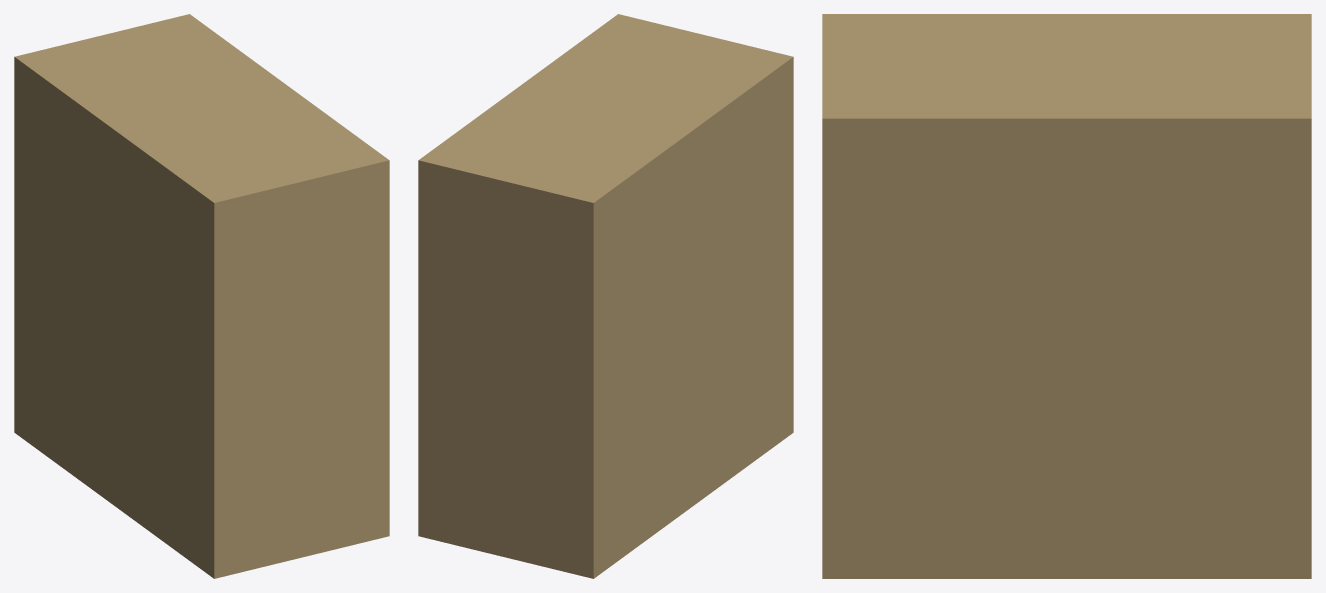
3 renders of one model, left to right at view 1: azimuth 30°, elevation 25°; view 2: azimuth 150°, elevation 25°; view 3: azimuth 270°, elevation 25°, orthographic. The views are drawn at different scales.
Visible parts, largest first — view 1: mesh92194, mesh92196, mesh92193; view 2: mesh92194, mesh92195, mesh92193; view 3: mesh92192, mesh92193.
Part boxes in pixels (x1,y1,x2,y2): mesh92194: (14,57,214,578); mesh92196: (214,160,389,578); mesh92193: (15,14,388,202); mesh92194: (593,57,793,578); mesh92195: (418,160,593,578); mesh92193: (419,14,792,202); mesh92192: (822,118,1311,578); mesh92193: (822,14,1311,118).
Bounding box in the file's own units: 0.000686 × 0.00141 × 0.00136.
